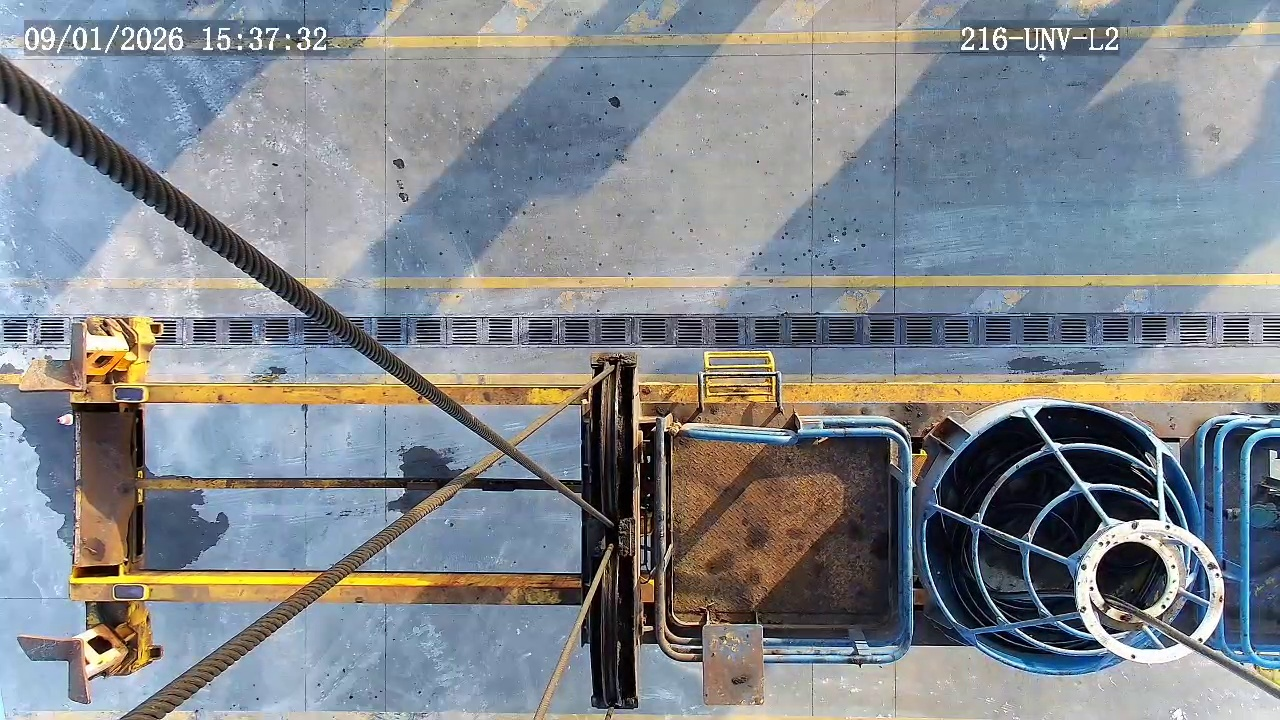left: (921, 403, 1200, 675)
